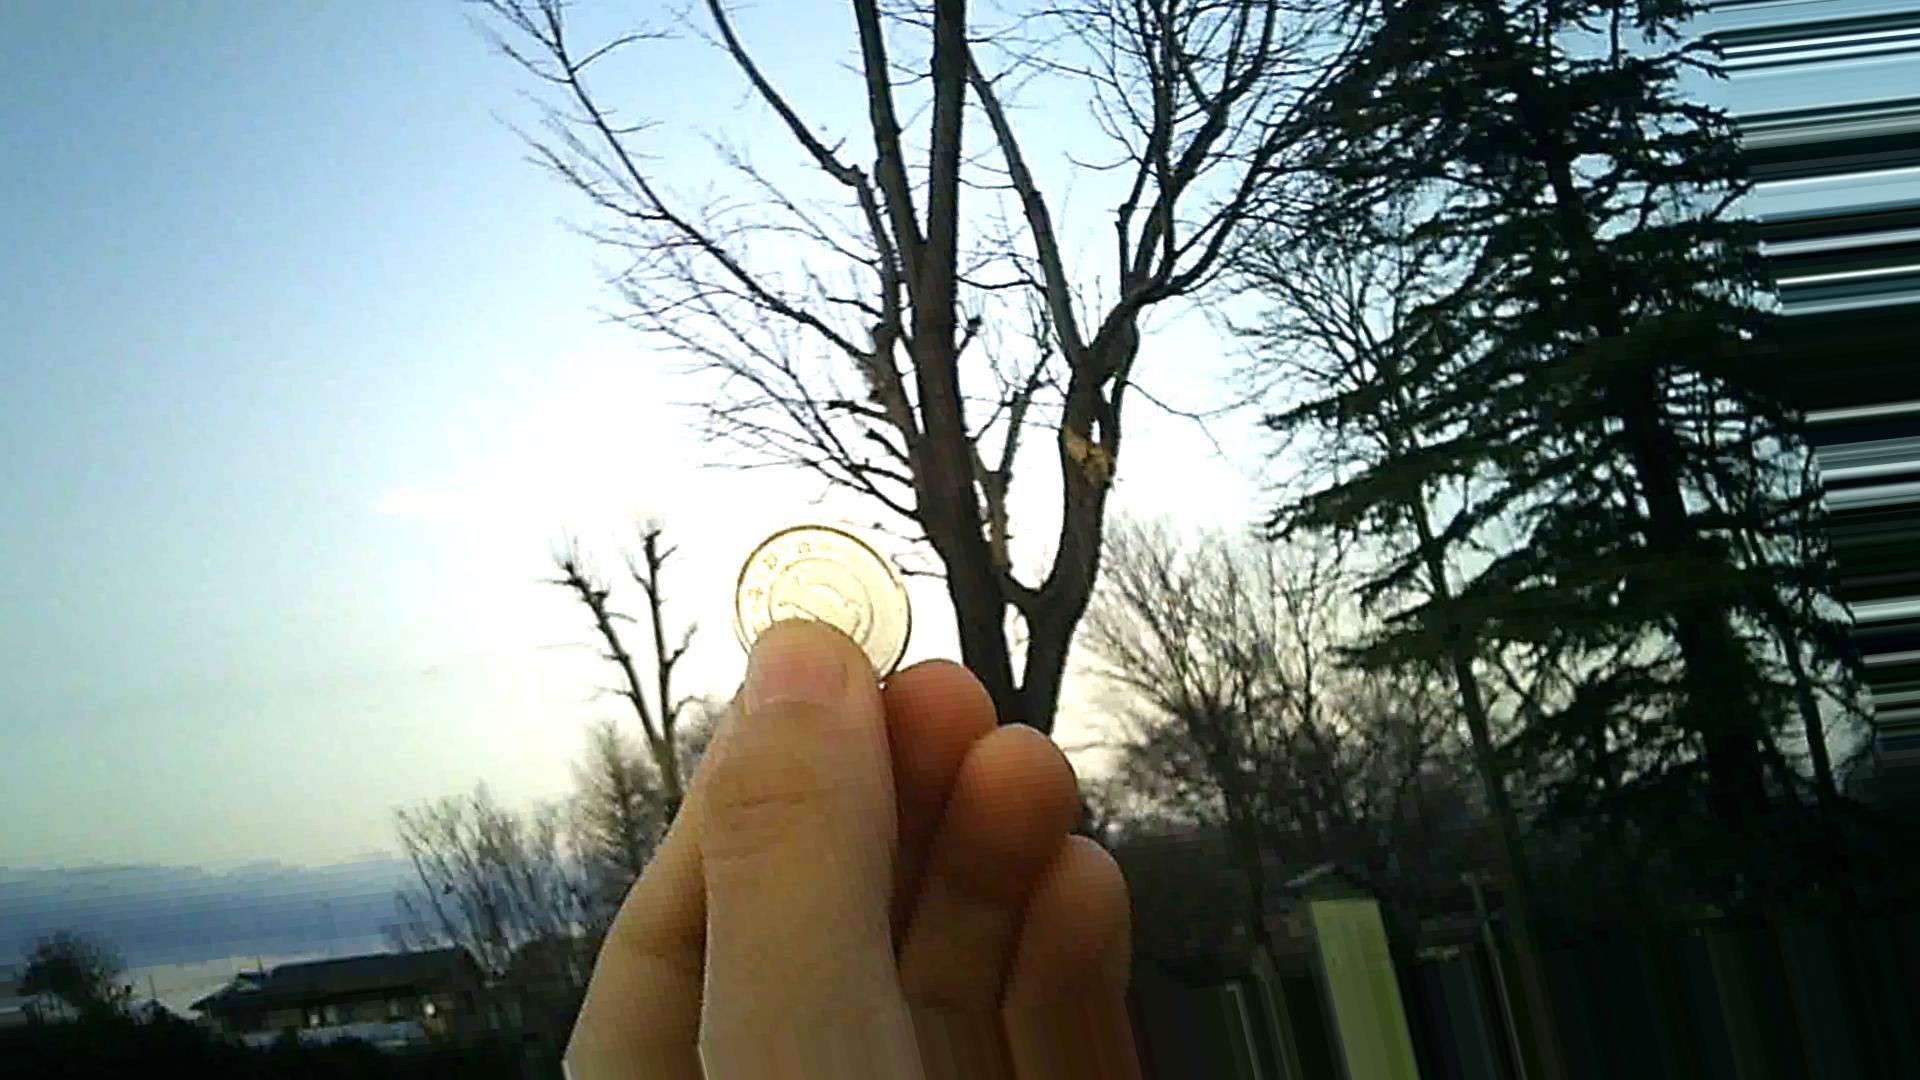1 Yen: (725, 514, 918, 691)
